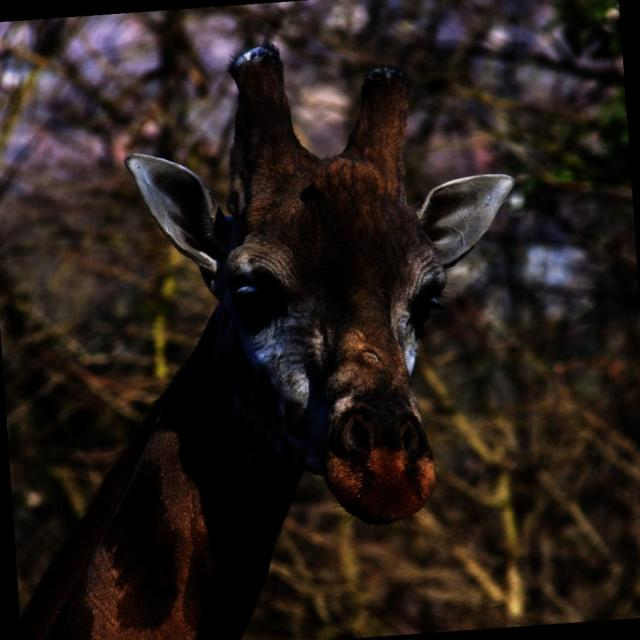Giraffe: (30, 42, 518, 640)
